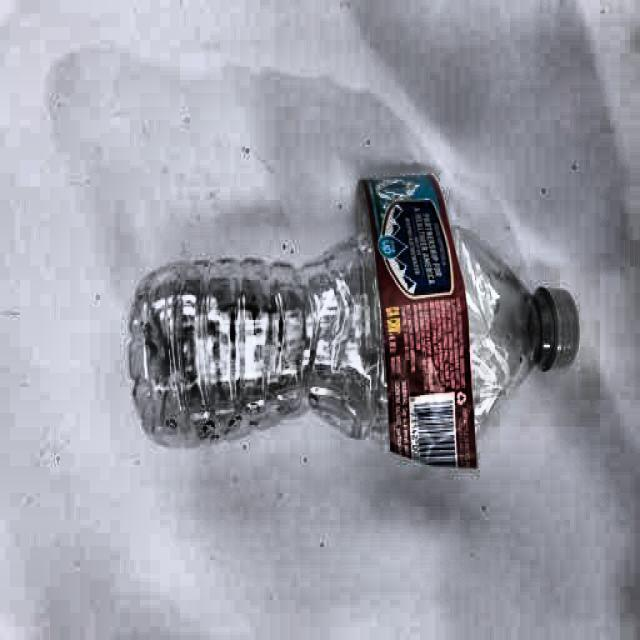plastic: (130, 214, 580, 461)
